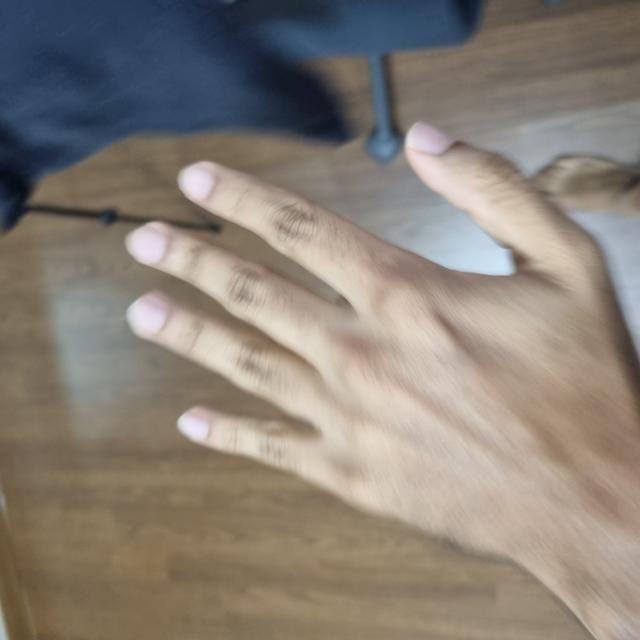Paper: (45, 129, 514, 640)
